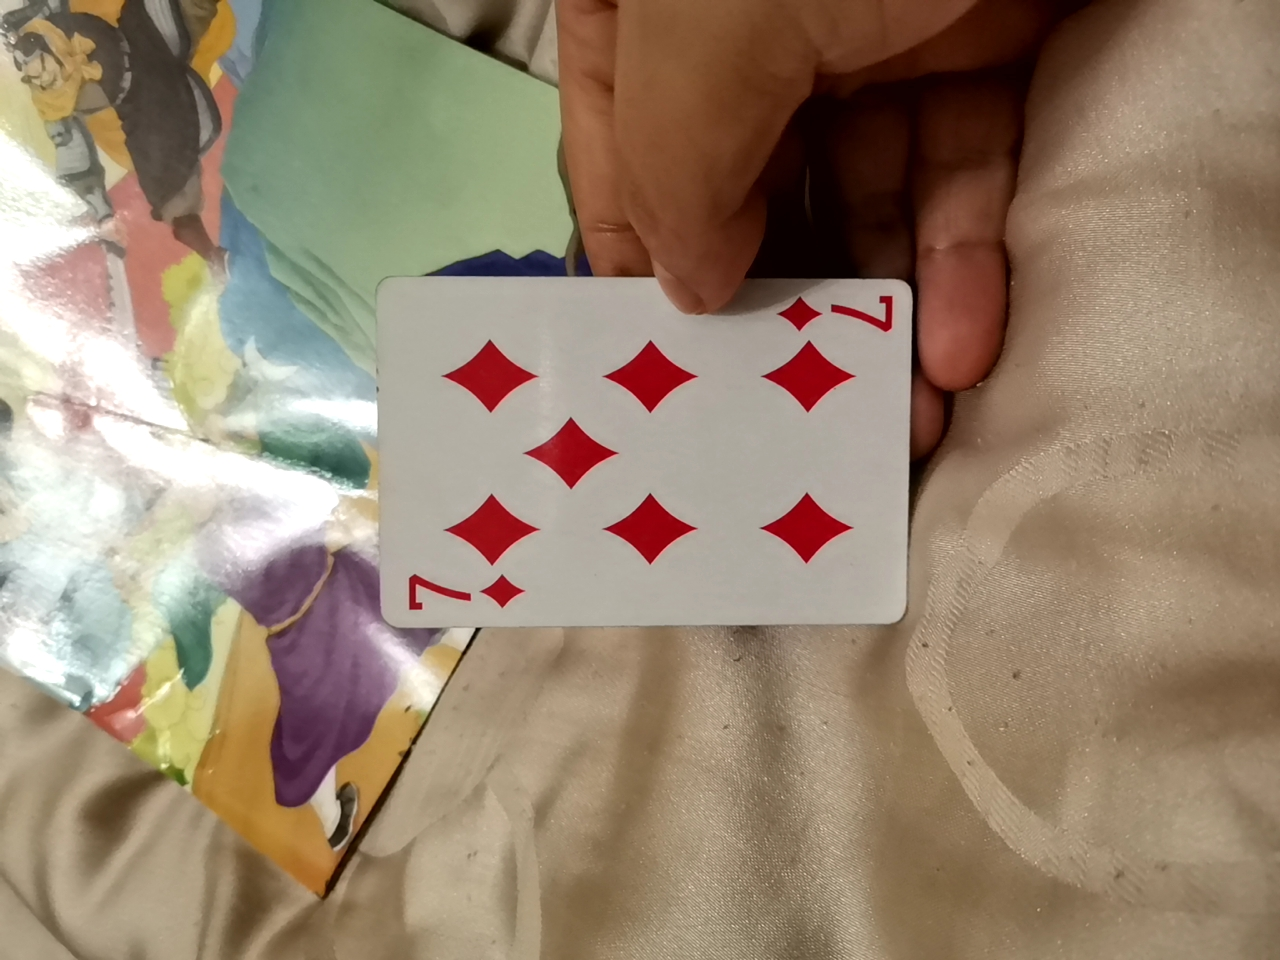fk 7: (374, 291, 929, 641)
